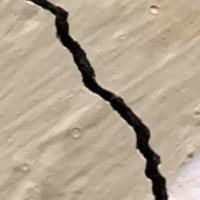crack: (28, 0, 173, 199)
